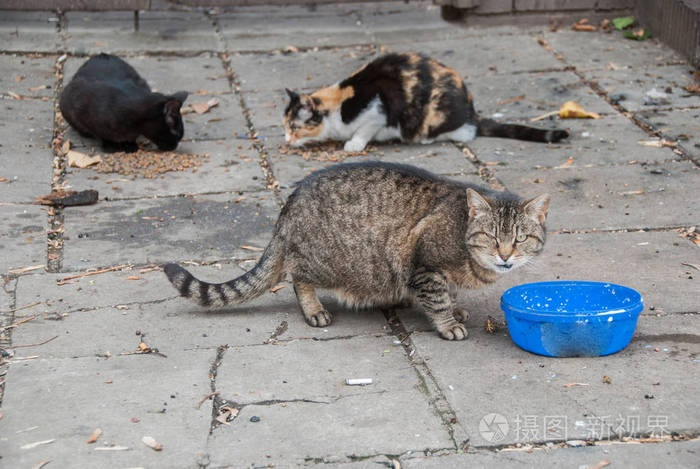cat: (164, 160, 552, 339), (282, 52, 569, 154), (59, 54, 188, 154)
